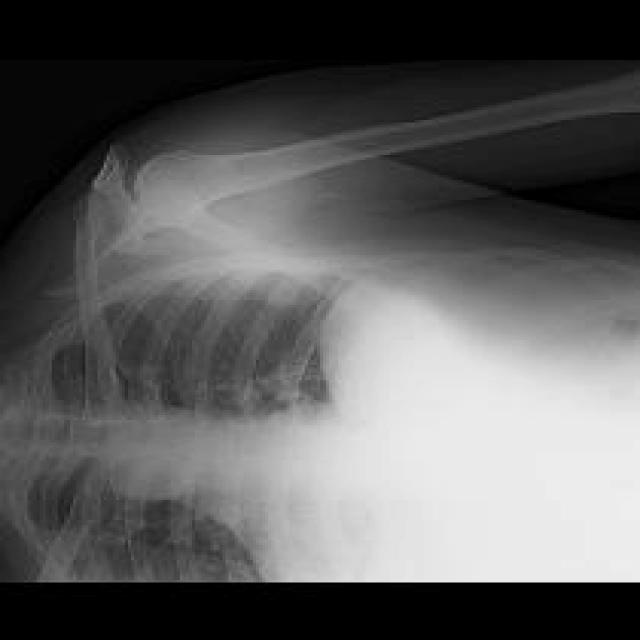normal: (3, 66, 637, 581)
